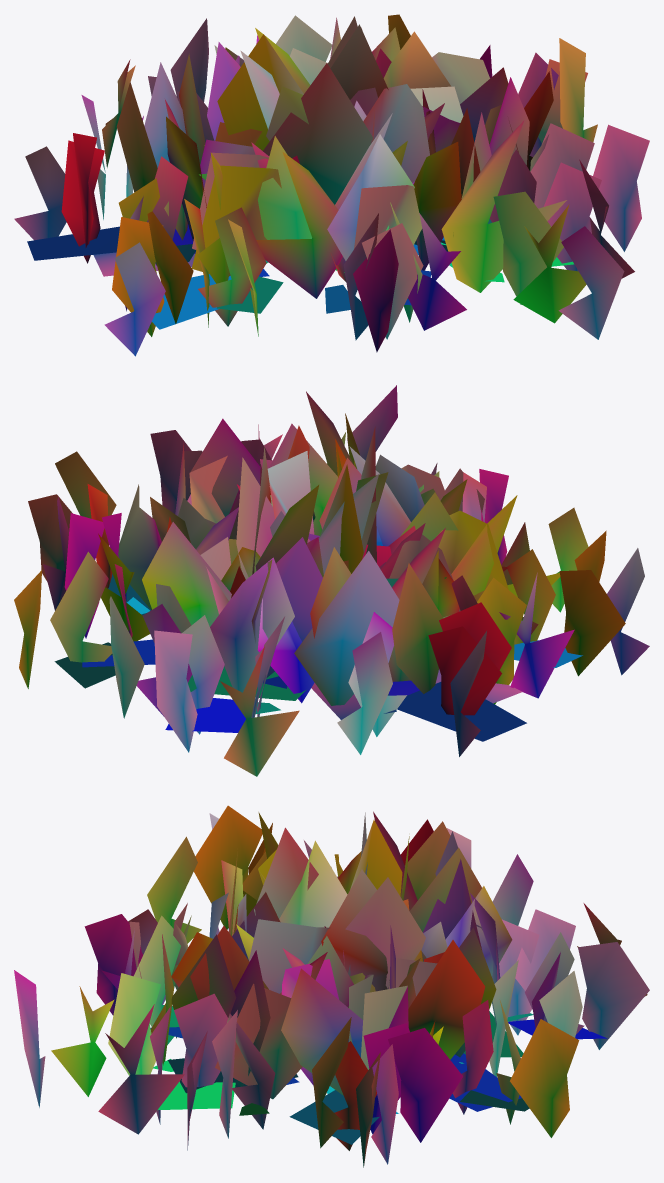
File: Kikuyu_Grass_wiljearqx_High_wiljearqx_VarC_LOD2.fbx
3 views of the same model, one above another, from view 1: azimuth 30°, elevation 25°; view 2: azimuth 150°, elevation 25°; view 3: azimuth 270°, elevation 25° (orthographic). The views are drawn at different scales.
Visible parts, largest first — view 1: _cznx_VarC_LOD5; view 2: _cznx_VarC_LOD5; view 3: _cznx_VarC_LOD5.
Part boxes in pixels (<box>): _cznx_VarC_LOD5: <box>14,14,649,356</box>; _cznx_VarC_LOD5: <box>14,385,649,776</box>; _cznx_VarC_LOD5: <box>14,805,649,1167</box>.
Size of the model in its own units: 115 by 43.54 by 118.
